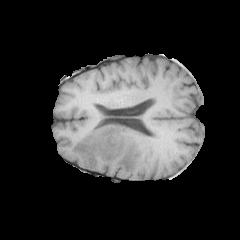glioma: (72, 124, 142, 173)
